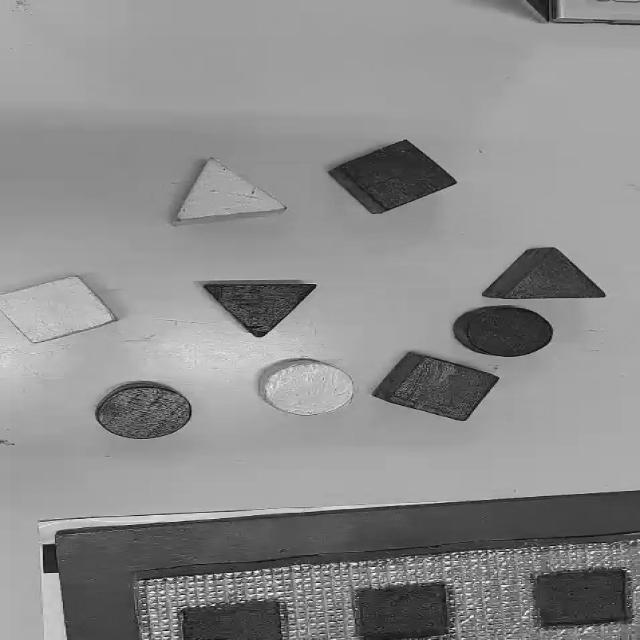bcircle: (454, 306, 552, 357)
bcube: (334, 139, 454, 212)
btriangle: (202, 282, 318, 339)
rcircle: (96, 382, 191, 439)
rcube: (372, 352, 500, 420)
rtriangle: (481, 246, 605, 301)
ycircle: (260, 360, 353, 415)
ycube: (0, 275, 119, 345)
ytriangle: (172, 157, 287, 226)
